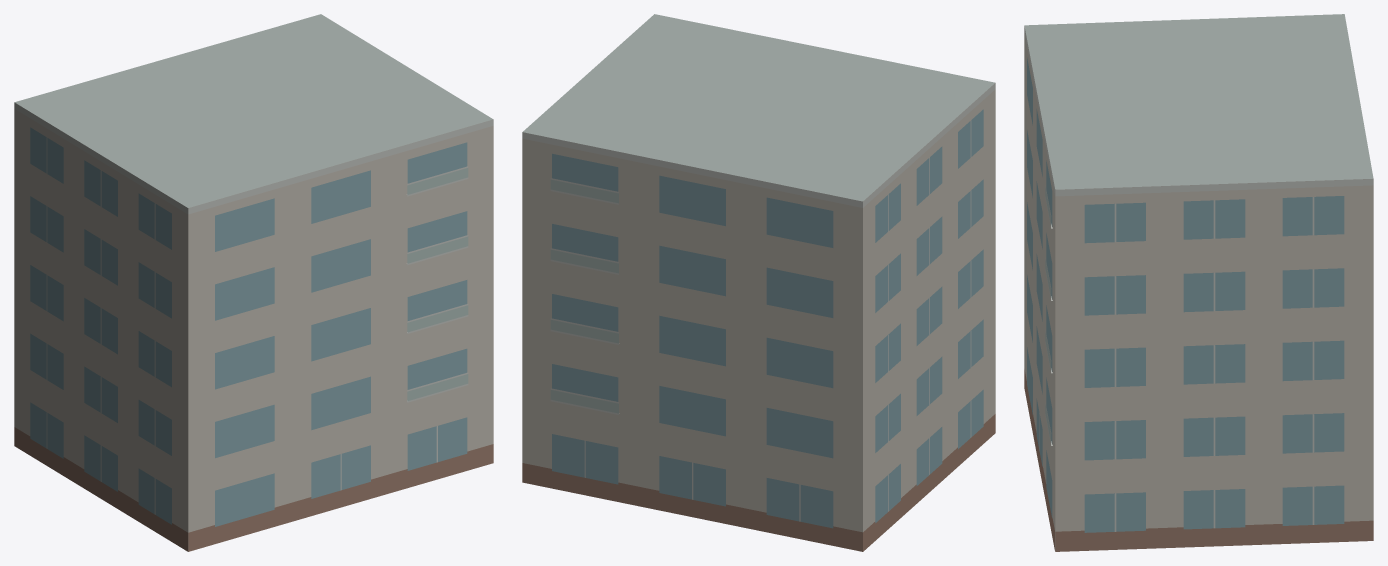
The model's file is survey-upis-33009908.glb.
3 renders of one model, left to right at view 1: azimuth 30°, elevation 25°; view 2: azimuth 150°, elevation 25°; view 3: azimuth 270°, elevation 25°, orthographic. The views are drawn at different scales.
Parts seen in each view (by area): view 1: survey-upis-33009908.tmp; view 2: survey-upis-33009908.tmp; view 3: survey-upis-33009908.tmp.
Boxes of the visible parts, bbox=[...] form: survey-upis-33009908.tmp: bbox=[14, 14, 493, 551]; survey-upis-33009908.tmp: bbox=[522, 14, 995, 551]; survey-upis-33009908.tmp: bbox=[1024, 14, 1373, 551].
Bounding box in the file's own units: 13.75 × 13.2 × 11.55.
